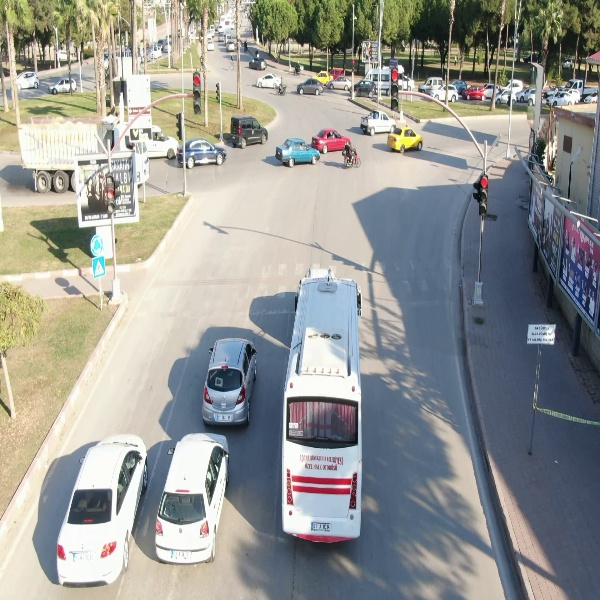car: (46, 428, 149, 588), (153, 432, 232, 565), (198, 335, 260, 426), (176, 137, 228, 170), (229, 112, 270, 150), (273, 136, 320, 169), (387, 123, 424, 154), (13, 70, 43, 93), (295, 77, 327, 98), (46, 75, 77, 96), (427, 83, 458, 104), (545, 90, 577, 108), (353, 77, 379, 99), (253, 73, 282, 89), (460, 84, 488, 99), (328, 75, 354, 90), (248, 54, 268, 72)
